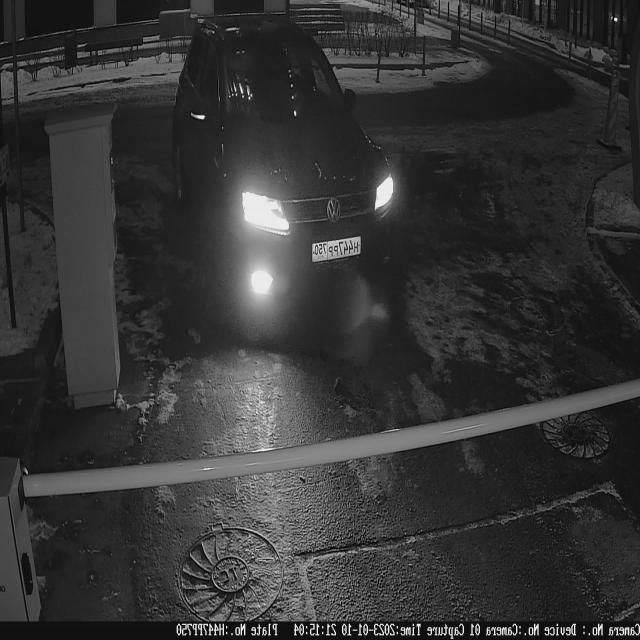car-plate-numbers: (311, 232, 365, 268)
